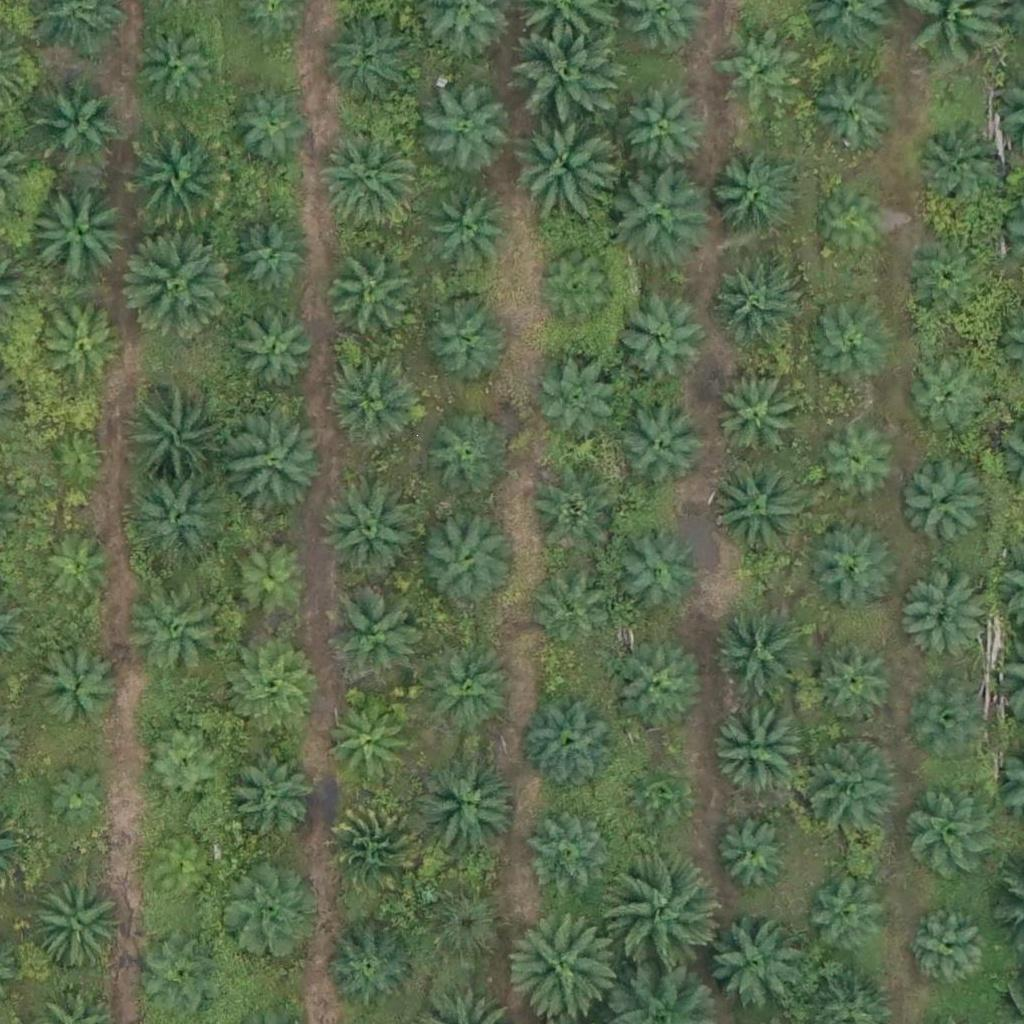Kelapa_Sawit: (509, 910, 622, 1023), (609, 858, 721, 972), (124, 125, 236, 238), (120, 224, 232, 337), (796, 734, 896, 835), (523, 694, 623, 795), (415, 751, 515, 852), (29, 183, 129, 284), (132, 471, 232, 572), (128, 585, 228, 686), (225, 632, 325, 733), (228, 408, 328, 509), (324, 580, 424, 681), (321, 123, 421, 224), (327, 354, 427, 455), (417, 503, 517, 604), (415, 636, 515, 737), (511, 110, 611, 211), (614, 166, 714, 267), (709, 462, 809, 563), (712, 602, 812, 703), (914, 116, 1014, 217), (710, 701, 810, 801), (704, 917, 804, 1017), (219, 863, 319, 963), (328, 798, 428, 898), (29, 871, 129, 971), (319, 482, 419, 582), (518, 28, 618, 128), (804, 63, 904, 163), (903, 904, 991, 993), (38, 77, 126, 166), (713, 155, 801, 244), (911, 794, 999, 882), (805, 867, 893, 955), (417, 884, 505, 972), (526, 815, 614, 903), (322, 700, 410, 788), (327, 923, 415, 1011), (38, 301, 126, 389), (328, 23, 416, 111), (422, 294, 510, 382), (423, 414, 511, 502), (537, 358, 625, 446), (530, 472, 618, 560), (623, 90, 711, 178), (615, 301, 703, 389), (619, 402, 707, 490), (611, 531, 699, 619), (716, 25, 804, 113), (713, 261, 801, 349), (909, 240, 997, 328), (140, 721, 228, 809), (229, 309, 316, 398), (425, 180, 512, 269), (222, 751, 309, 839), (136, 933, 223, 1021), (33, 645, 120, 733), (138, 20, 225, 108), (131, 407, 218, 495), (132, 834, 219, 922), (230, 531, 317, 619), (228, 84, 315, 172), (233, 214, 320, 302), (327, 252, 414, 340), (425, 90, 512, 178), (528, 567, 615, 655), (531, 249, 618, 337), (618, 647, 705, 735), (716, 375, 803, 463), (811, 639, 898, 727), (811, 521, 898, 609), (818, 417, 905, 505), (806, 294, 893, 382), (905, 357, 992, 445), (904, 466, 991, 554), (901, 574, 988, 662), (816, 188, 891, 264), (715, 817, 790, 893), (915, 684, 990, 760), (43, 423, 118, 499), (40, 526, 115, 602), (41, 758, 116, 833), (626, 761, 688, 824)
